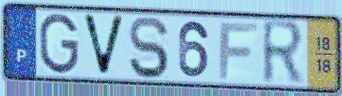6: (176, 18, 211, 80)
F: (216, 21, 260, 81)
G: (37, 12, 81, 76)
R: (260, 18, 307, 87)
S: (127, 15, 171, 81)
V: (80, 12, 127, 79)
